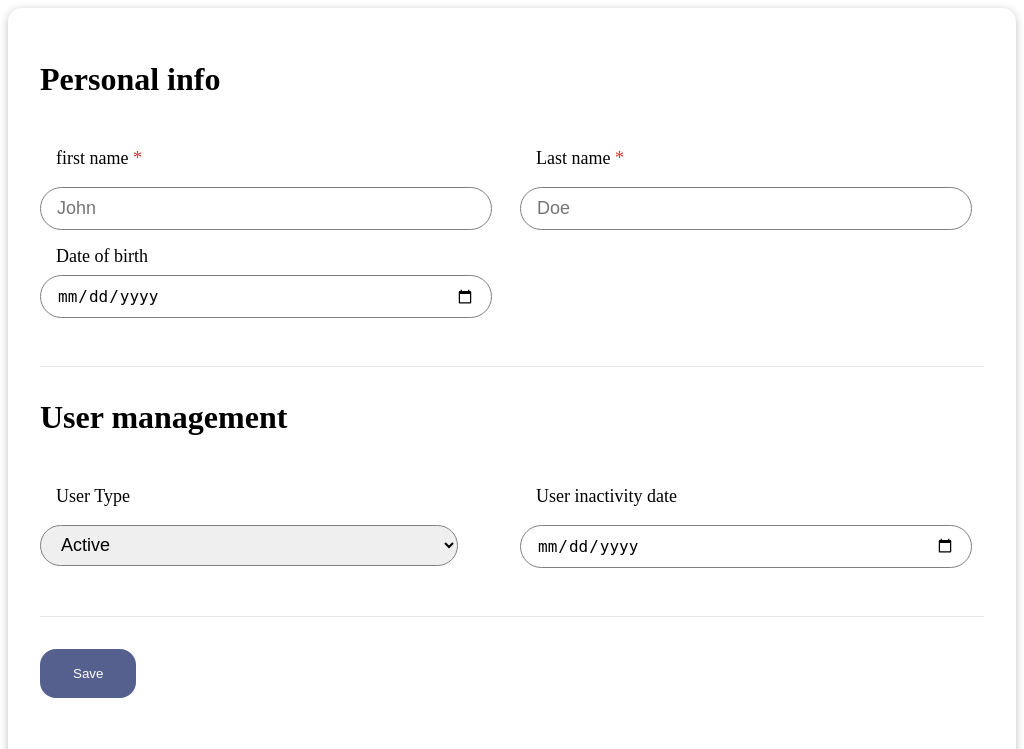
Test: FormTaskComplet › ✨ Submit form ✨ › When user clicks the submit btn directly withtout filling or touching the inputs 🤨
Click the button: (88, 673) [40,649,136,698]
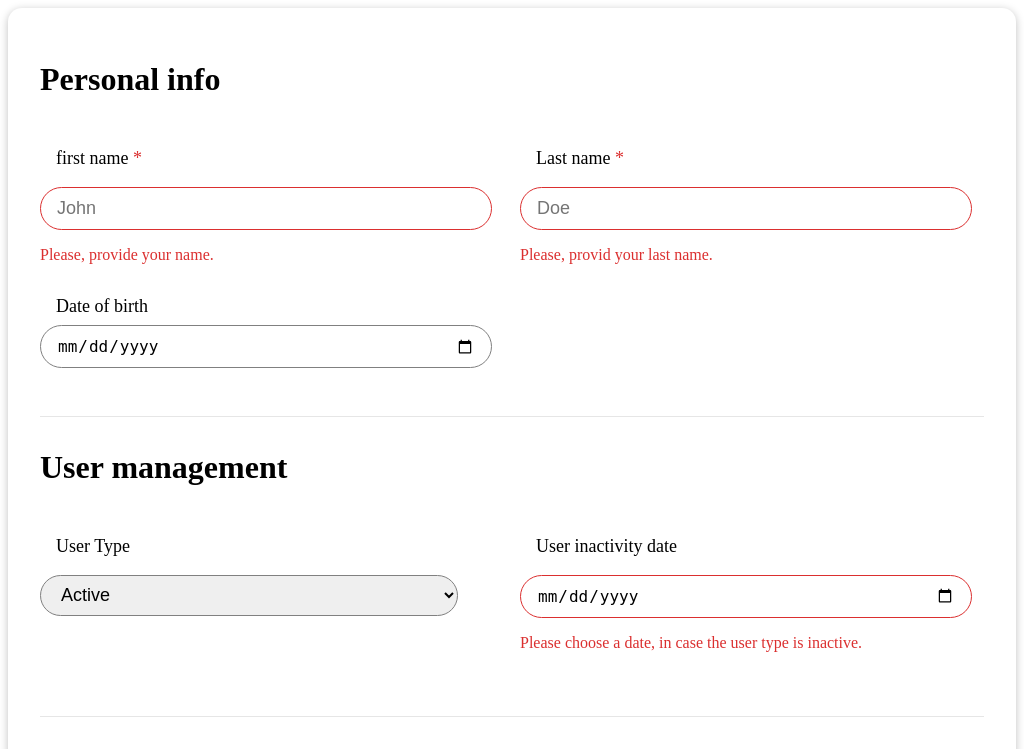
Check: the text "please choose a date, in case the user type is inactive." is not shown
Check: the text "Please, provide your name." is shown, box [40,246,214,263]
Check: the text "Please, provid your last name." is shown, box [520,246,713,263]
